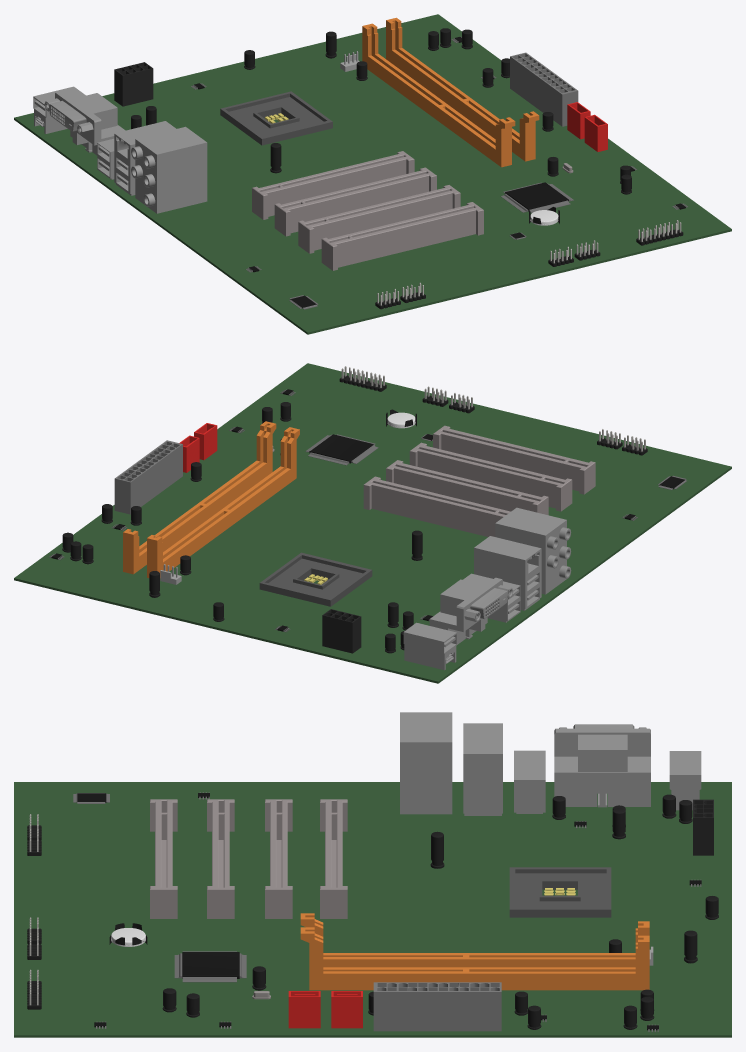
Rendered from MotherboardPGA478.fbx.
3 renders of one model, top to bottom at view 1: azimuth 30°, elevation 25°; view 2: azimuth 150°, elevation 25°; view 3: azimuth 270°, elevation 25°, orthographic. The views are drawn at different scales.
Visible parts, largest first — view 1: Plane, SOUND, PCI.003, RAM, RAM.001, PCI.001, PCI.002, PCI.004, CPU, DISPLAY, POWER, USB30 (+6 smaller); view 2: Plane, RAM, PCI.004, RAM.001, PCI.002, PCI.003, CPU, PCI.001, SOUND, DISPLAY, USB30, POWER (+6 smaller); view 3: Plane, RAM.001, DISPLAY, POWER, SOUND, RAM, CPU, USB30, PCI.004, PCI.001, PCI.002, PCI.003 (+6 smaller).
Part boxes in pixels (left/top/right/bottom): Plane: left=14, top=14, right=731, bottom=334; SOUND: left=131, top=126, right=207, bottom=213; PCI.003: left=321, top=202, right=483, bottom=270; RAM: left=362, top=23, right=515, bottom=167; RAM.001: left=386, top=17, right=539, bottom=161; PCI.001: left=274, top=167, right=436, bottom=236; PCI.002: left=298, top=185, right=460, bottom=253; PCI.004: left=252, top=151, right=414, bottom=219; CPU: left=220, top=91, right=332, bottom=145; DISPLAY: left=44, top=91, right=125, bottom=155; POWER: left=510, top=52, right=578, bottom=126; USB30: left=114, top=121, right=176, bottom=195; Plane: left=14, top=363, right=731, bottom=683; RAM: left=147, top=427, right=299, bottom=577; PCI.004: left=363, top=476, right=510, bottom=536; RAM.001: left=123, top=421, right=276, bottom=574; PCI.002: left=409, top=442, right=572, bottom=511; PCI.003: left=433, top=425, right=595, bottom=494; CPU: left=259, top=552, right=372, bottom=606; PCI.001: left=386, top=460, right=548, bottom=515; SOUND: left=495, top=507, right=571, bottom=594; DISPLAY: left=429, top=577, right=513, bottom=645; USB30: left=474, top=536, right=541, bottom=610; POWER: left=114, top=440, right=182, bottom=514; Plane: left=14, top=782, right=731, bottom=1037; RAM.001: left=300, top=927, right=649, bottom=990; DISPLAY: left=554, top=724, right=650, bottom=807; POWER: left=373, top=982, right=501, bottom=1031; SOUND: left=400, top=712, right=452, bottom=814; RAM: left=300, top=913, right=649, bottom=967; CPU: left=509, top=867, right=611, bottom=917; USB30: left=463, top=723, right=502, bottom=815; PCI.004: left=320, top=799, right=347, bottom=918; PCI.001: left=265, top=799, right=292, bottom=918; PCI.002: left=207, top=799, right=234, bottom=918; PCI.003: left=150, top=799, right=177, bottom=918.
Size of the model in its own units: 760 by 107 by 901.
